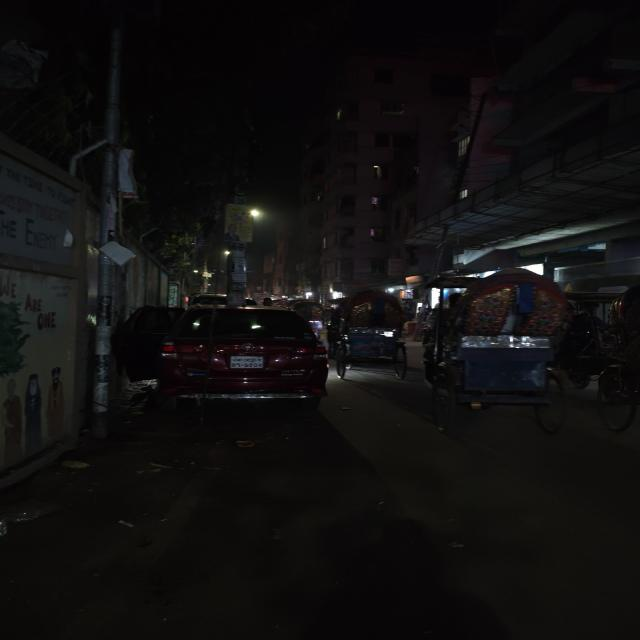cng: (156, 304, 332, 410)
rickshaw: (419, 267, 584, 434), (330, 288, 414, 382)
